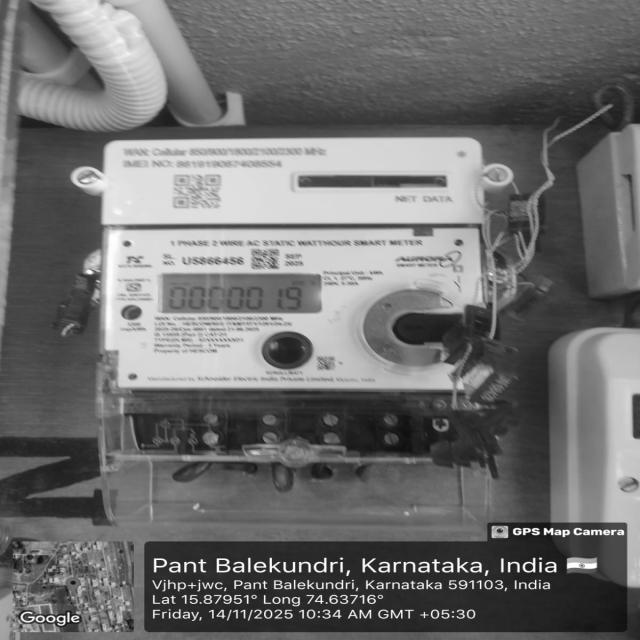meter: (98, 139, 494, 391)
